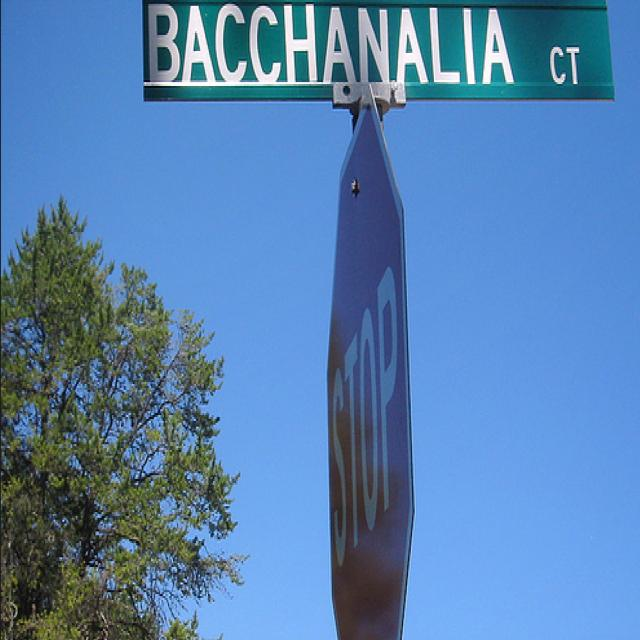STOP: (315, 101, 423, 640)
